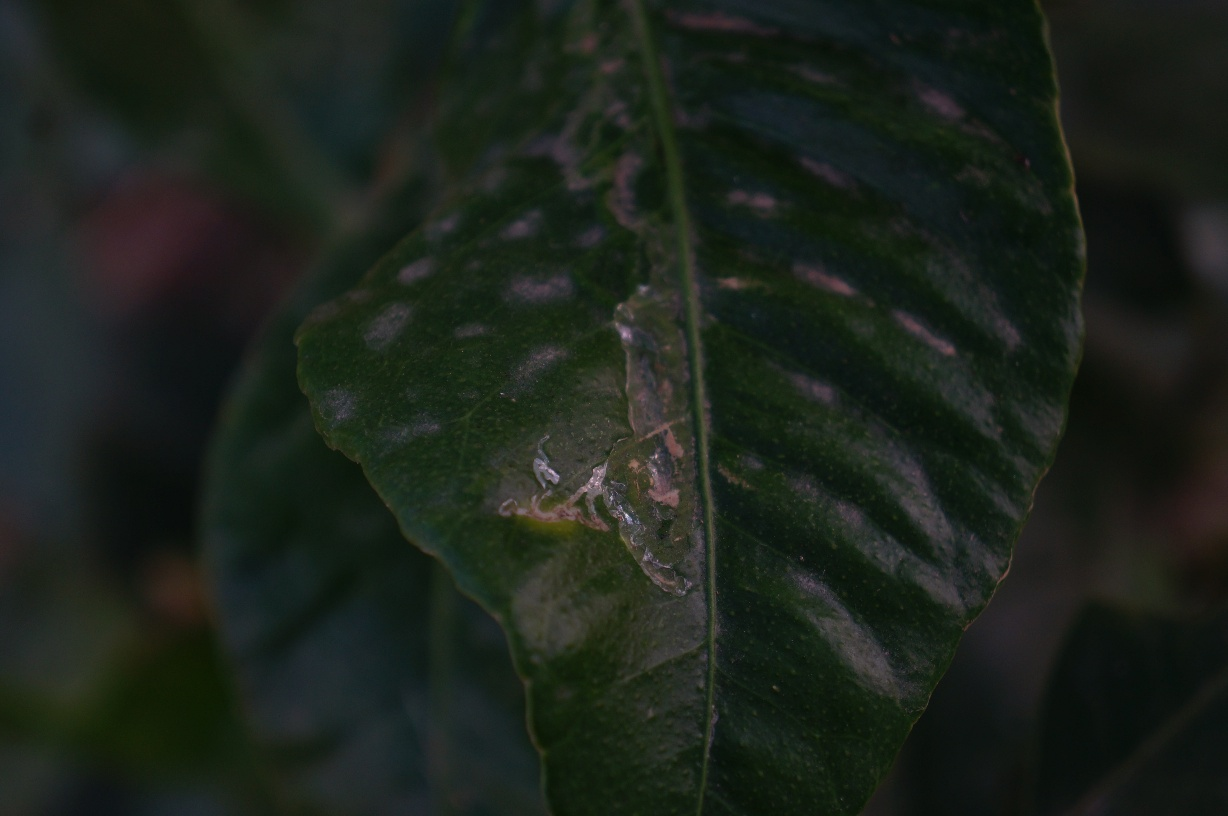damage: (500, 243, 696, 602)
